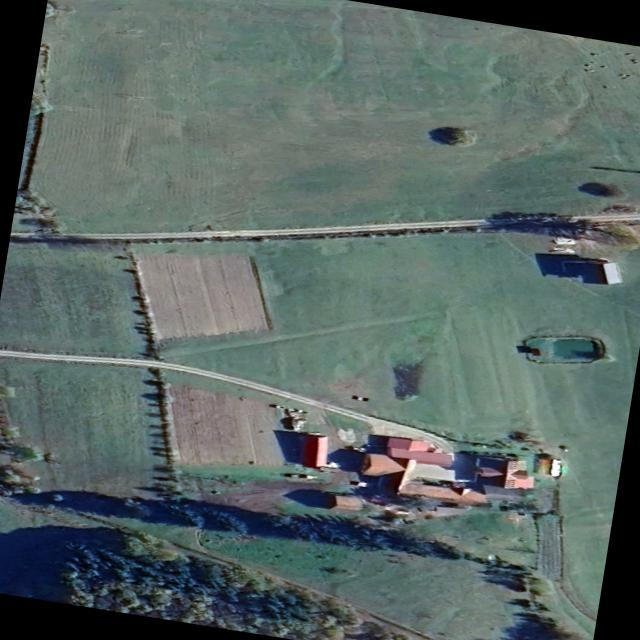bare-soil: (136, 255, 271, 338), (164, 384, 284, 467)
building: (0, 351, 567, 517), (10, 213, 640, 239), (534, 226, 625, 288), (510, 334, 614, 367)
grass: (164, 224, 640, 640), (10, 0, 640, 234), (0, 499, 544, 640), (159, 364, 396, 526), (0, 239, 251, 358), (0, 356, 158, 495)
tree: (0, 468, 573, 640), (39, 528, 433, 640), (146, 366, 179, 492), (124, 251, 162, 360), (0, 380, 49, 462), (426, 126, 484, 146), (584, 183, 624, 201)
